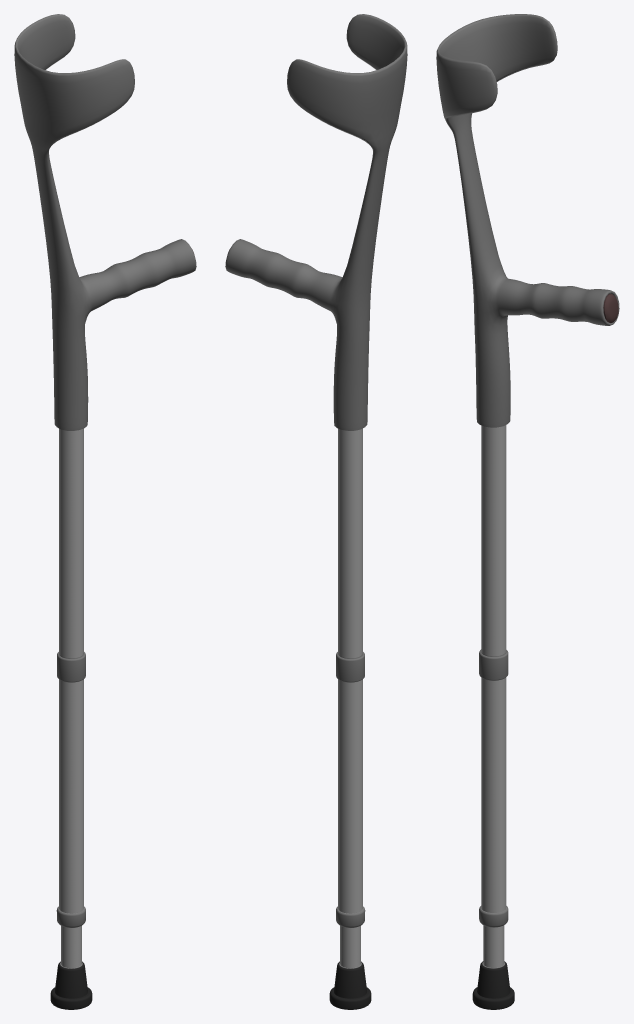
File: Walker_03.fbx
3 renders of one model, left to right at view 1: azimuth 30°, elevation 25°; view 2: azimuth 150°, elevation 25°; view 3: azimuth 330°, elevation 25°, orthographic.
Visible parts, largest first — view 1: Walker_03; view 2: Walker_03; view 3: Walker_03.
Boxes of the visible parts, x1,y1,x2,y2 form: Walker_03: (14,14,196,1009); Walker_03: (225,14,407,1009); Walker_03: (436,14,619,1009).
Size of the model in its own units: 20.11 by 112 by 14.27.
1 material, 1 textured.
